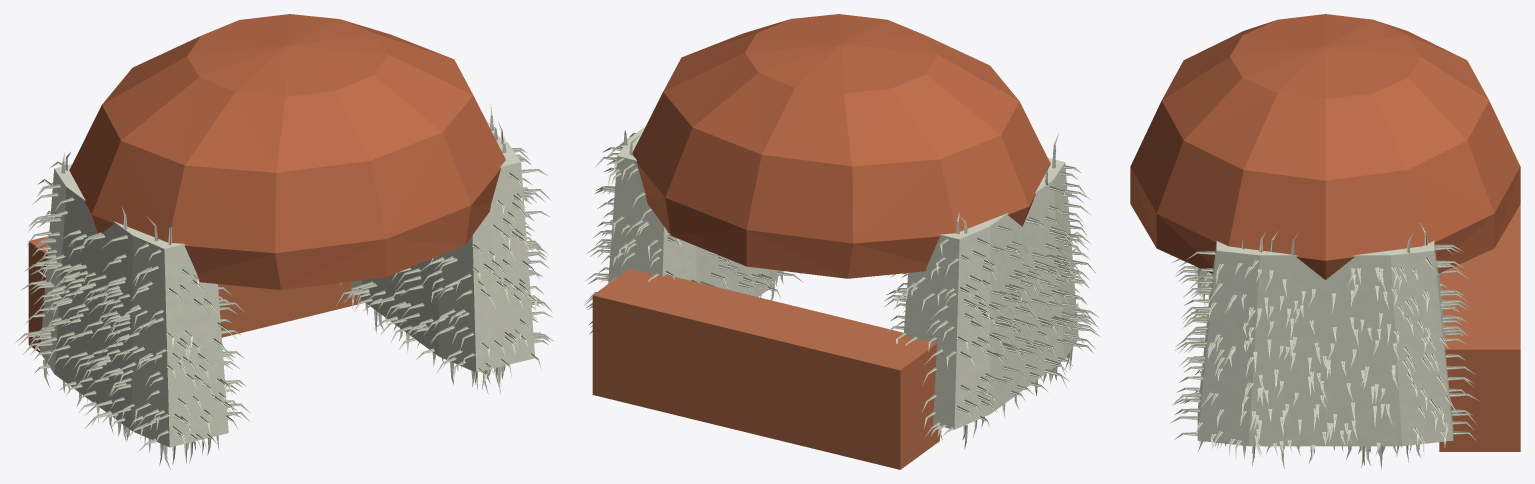
The model's file is rescuehood.glb.
3 renders of one model, left to right at view 1: azimuth 30°, elevation 25°; view 2: azimuth 150°, elevation 25°; view 3: azimuth 270°, elevation 25°, orthographic. The views are drawn at different scales.
Parts seen in each view (by area): view 1: Rescue Hood.002, Rescue Hood.002 / shearling / game fur; view 2: Rescue Hood.002, Rescue Hood.002 / shearling / game fur; view 3: Rescue Hood.002, Rescue Hood.002 / shearling / game fur.
Part boxes in pixels (x1=…): Rescue Hood.002: x1=28, y1=14, x2=534, y2=447; Rescue Hood.002 / shearling / game fur: x1=15, y1=104, x2=554, y2=469; Rescue Hood.002: x1=592, y1=14, x2=1078, y2=469; Rescue Hood.002 / shearling / game fur: x1=584, y1=130, x2=1101, y2=449; Rescue Hood.002: x1=1130, y1=14, x2=1520, y2=451; Rescue Hood.002 / shearling / game fur: x1=1169, y1=223, x2=1478, y2=469.
Size of the model in its own units: 0.8144 by 0.5997 by 0.6336.
Materials: 3 (2 with a texture image).
